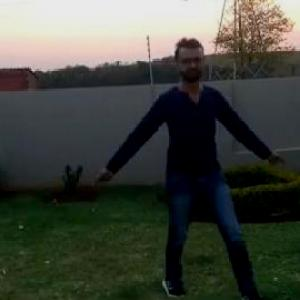land: (122, 58, 246, 239)
